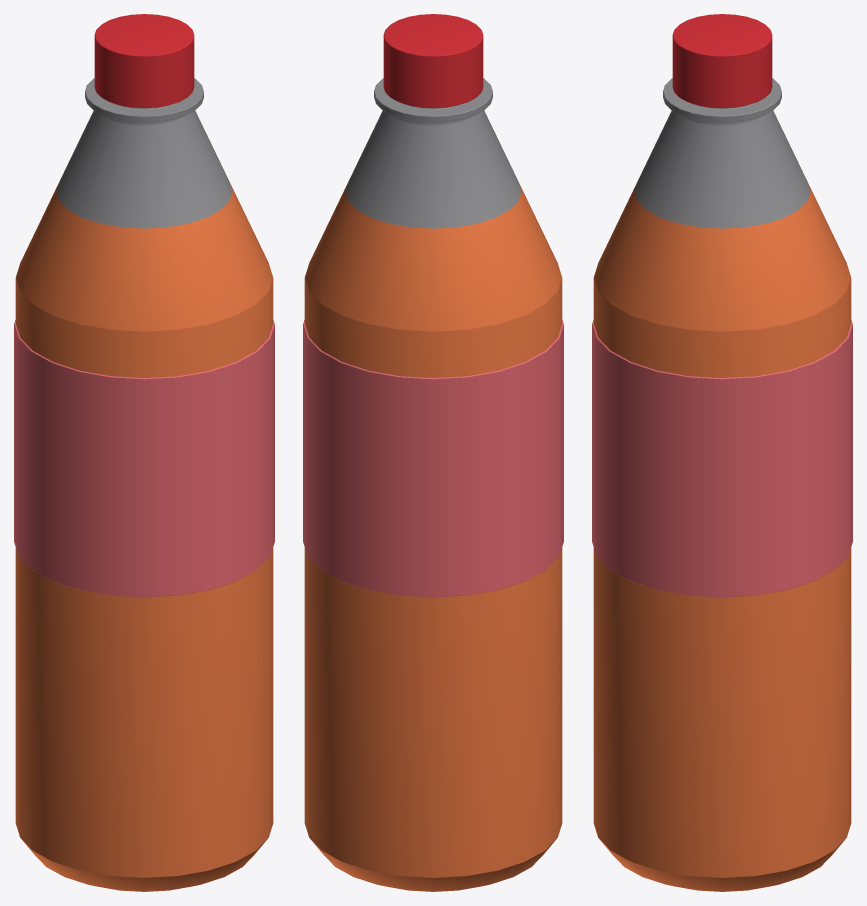
File: vita_bottle.fbx
3 views of the same model, side by side, from view 1: azimuth 30°, elevation 25°; view 2: azimuth 150°, elevation 25°; view 3: azimuth 270°, elevation 25° (orthographic).
Visible parts, largest first — view 1: vita_bottle; view 2: vita_bottle; view 3: vita_bottle.
Part boxes in pixels (box(x1,y1,x2,y2)): vita_bottle: box(14, 14, 274, 891); vita_bottle: box(303, 14, 563, 891); vita_bottle: box(592, 14, 852, 891).
Size of the model in its own units: 6.38 by 22.28 by 6.38.
